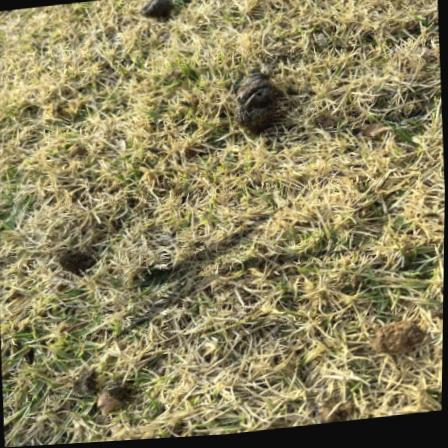dog-poop: (234, 67, 281, 139), (139, 0, 177, 27)
